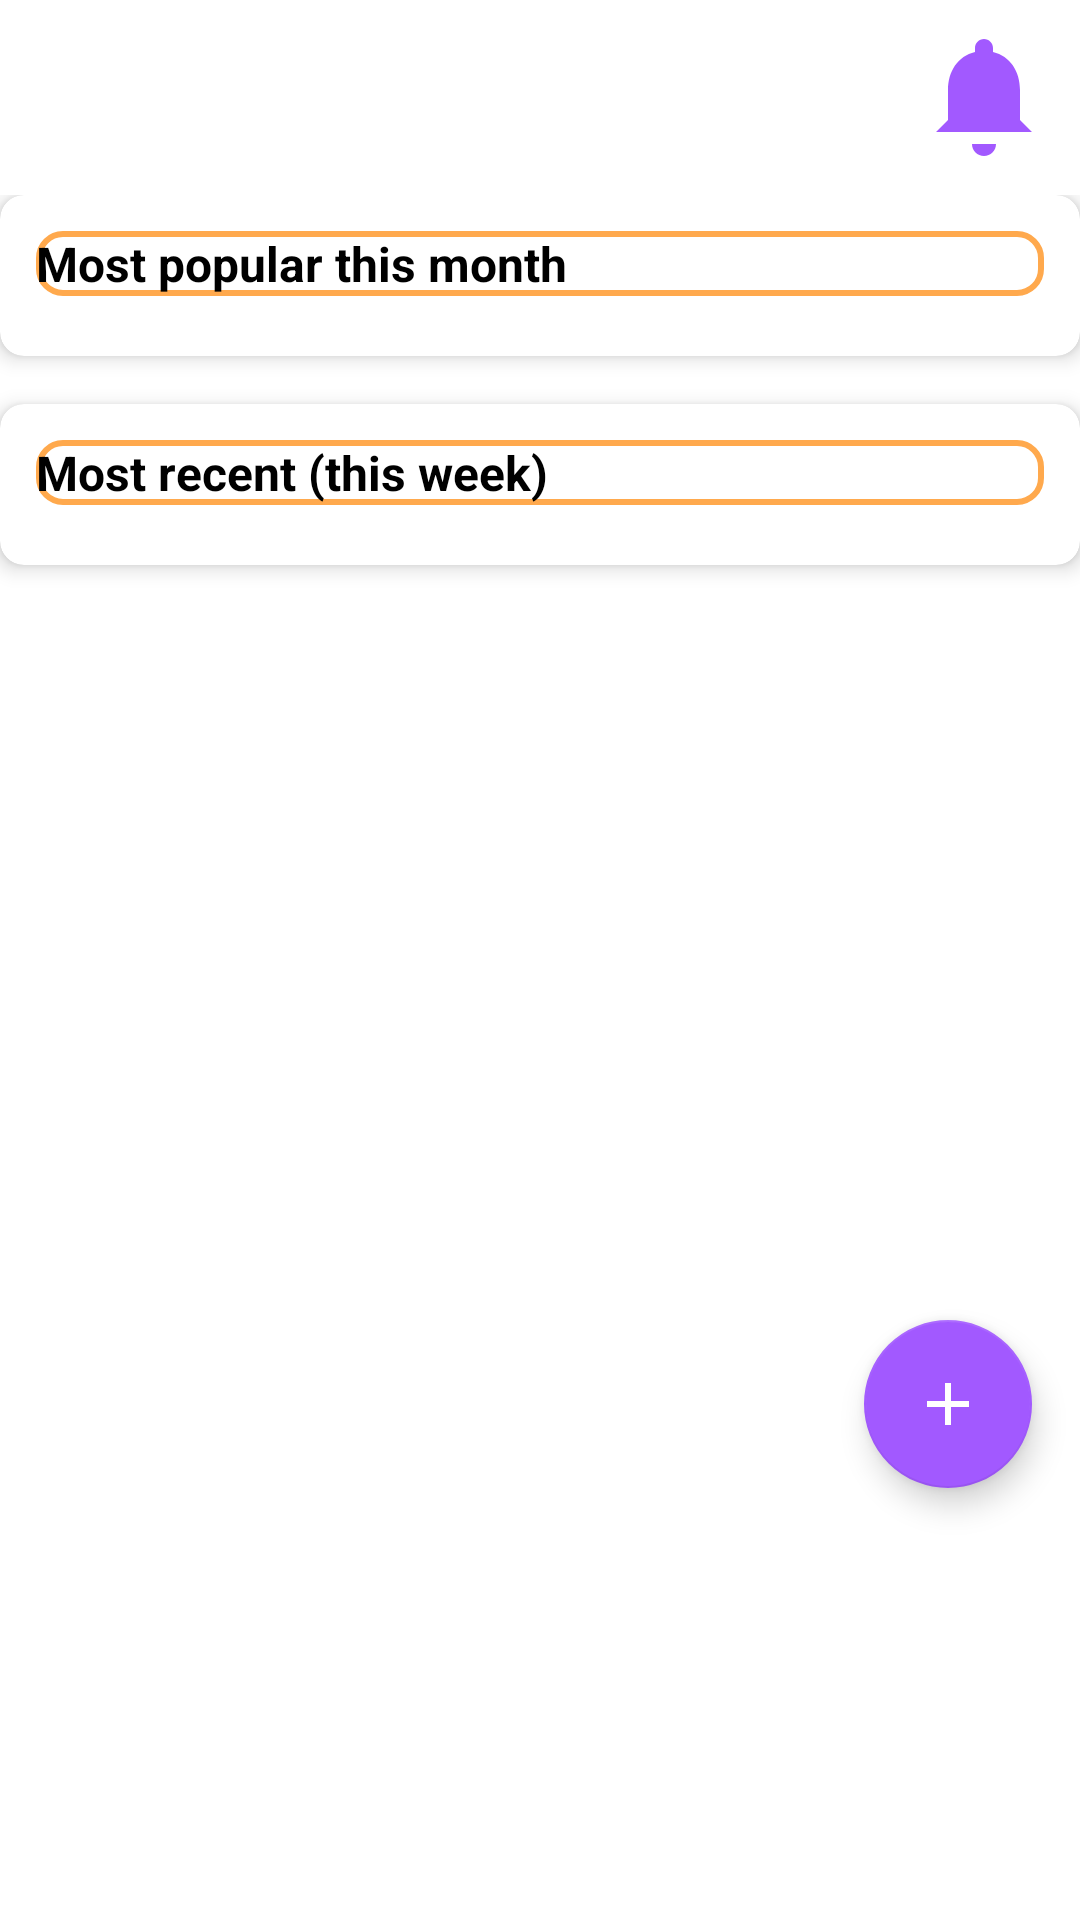

Icon bounding boxes for this 1080*1920 phone screenshot, format [left=x1, top=y1, right=x2, bottom=y2]:
Notifications: [left=936, top=39, right=1032, bottom=156]
Publish song: [left=864, top=1320, right=1032, bottom=1488]
